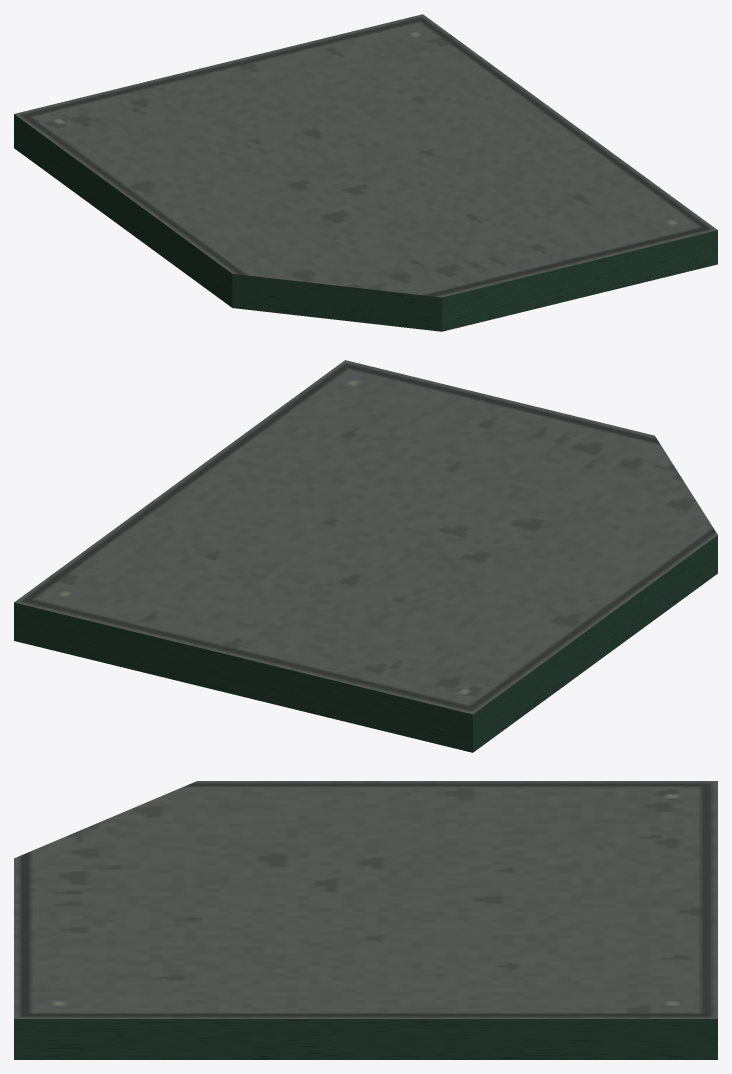
The model's file is DeckCornerLeft.fbx.
3 renders of one model, top to bottom at view 1: azimuth 30°, elevation 25°; view 2: azimuth 150°, elevation 25°; view 3: azimuth 270°, elevation 25°, orthographic. The views are drawn at different scales.
Visible parts, largest first — view 1: DeckCornerLeft; view 2: DeckCornerLeft; view 3: DeckCornerLeft.
Part boxes in pixels (left/top/right/bottom): DeckCornerLeft: left=14, top=14, right=717, bottom=331; DeckCornerLeft: left=14, top=360, right=717, bottom=752; DeckCornerLeft: left=14, top=781, right=717, bottom=1059.
Bounding box in the file's own units: 400 × 32 × 500.
